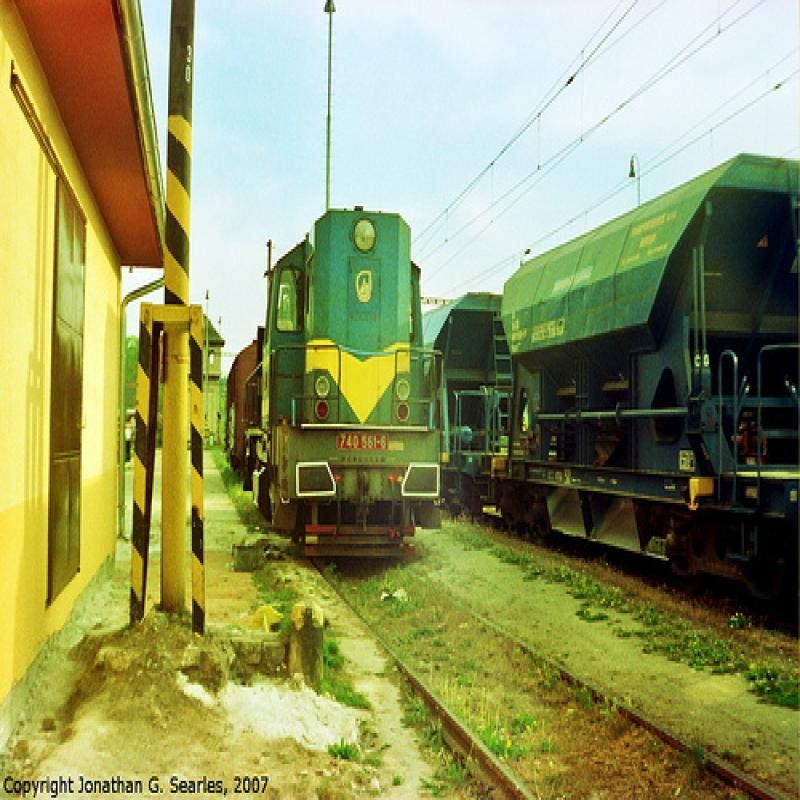train: (425, 152, 799, 626), (224, 205, 448, 569)
